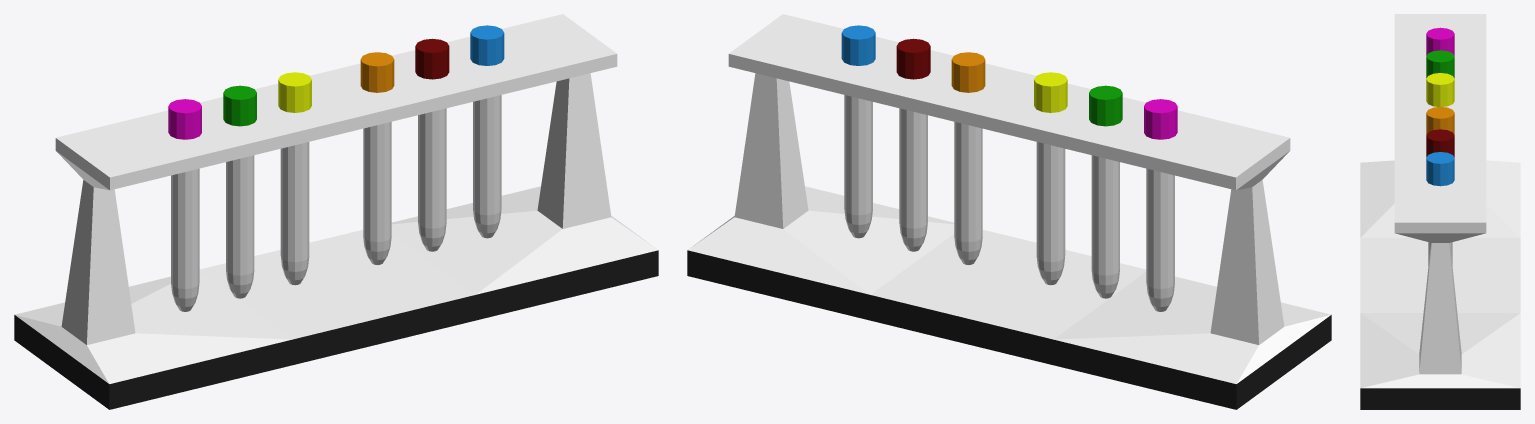
The model's file is TubeHolder.fbx.
3 renders of one model, left to right at view 1: azimuth 30°, elevation 25°; view 2: azimuth 150°, elevation 25°; view 3: azimuth 270°, elevation 25°, orthographic. The views are drawn at different scales.
Visible parts, largest first — view 1: TubeHolder; view 2: TubeHolder; view 3: TubeHolder.
Boxes of the visible parts, left/top/right/bottom form: TubeHolder: left=14, top=14, right=658, bottom=409; TubeHolder: left=687, top=14, right=1331, bottom=409; TubeHolder: left=1360, top=14, right=1520, bottom=409.
Bounding box in the file's own units: 40 × 16.63 × 11.99.
